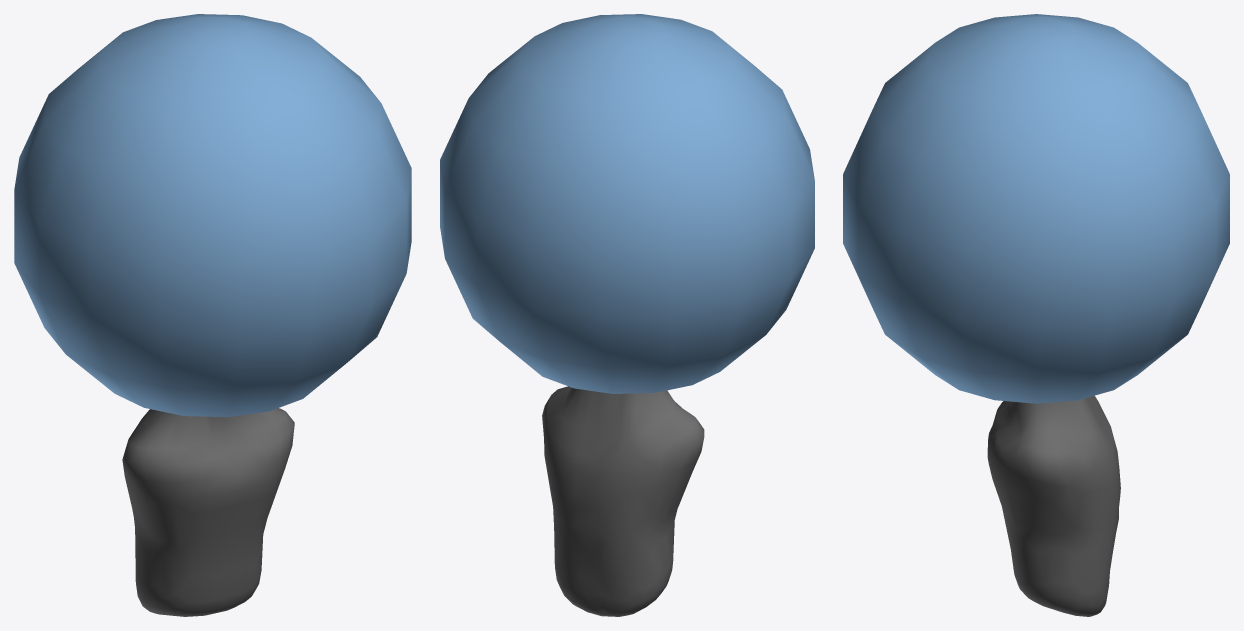
File: Space_Suit.fbx
The picture shows the model from 3 angles, left to right: view 1: azimuth 30°, elevation 25°; view 2: azimuth 150°, elevation 25°; view 3: azimuth 270°, elevation 25°; orthographic projection. The views are drawn at different scales.
Parts seen in each view (by area): view 1: Space Suit; view 2: Space Suit; view 3: Space Suit.
Boxes of the visible parts, <box> form: Space Suit: <box>14,14,411,616</box>; Space Suit: <box>440,14,814,616</box>; Space Suit: <box>843,14,1229,616</box>.
Bounding box in the file's own units: 246 × 405 × 246.
